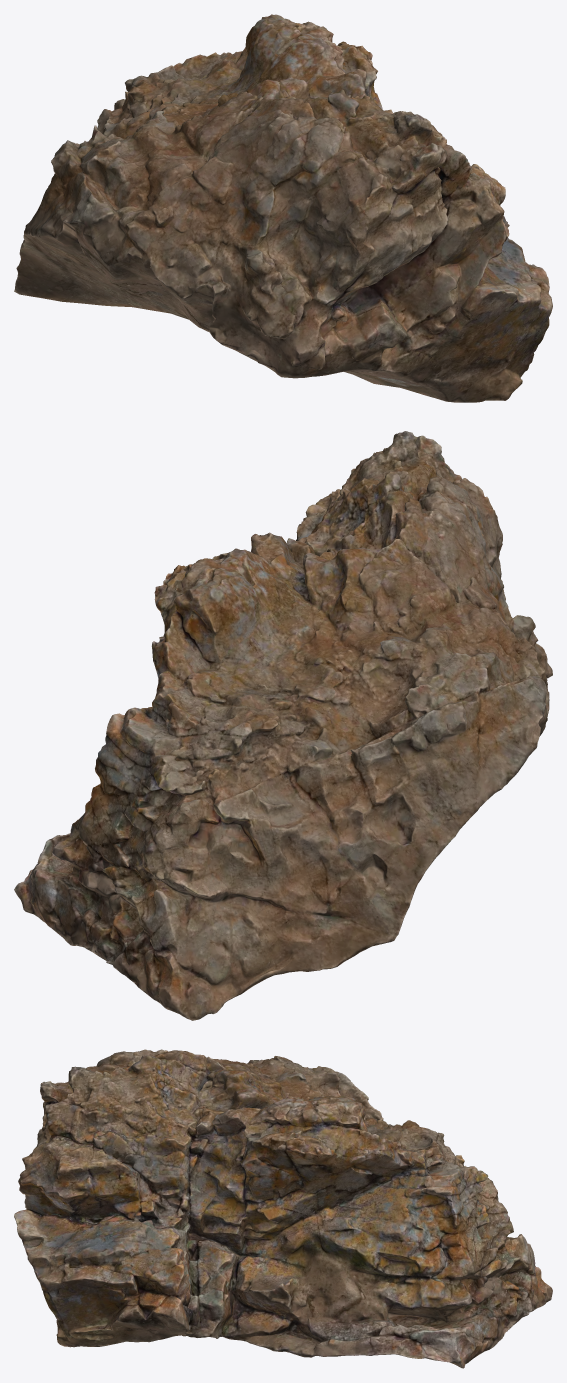
Rendered from boulder_01_1k.glb.
3 renders of one model, top to bottom at view 1: azimuth 30°, elevation 25°; view 2: azimuth 150°, elevation 25°; view 3: azimuth 270°, elevation 25°, orthographic. The views are drawn at different scales.
Visible parts, largest first — view 1: boulder_01; view 2: boulder_01; view 3: boulder_01.
Boxes of the visible parts, left/top/right/bottom form: boulder_01: left=14, top=14, right=552, bottom=402; boulder_01: left=14, top=431, right=552, bottom=1020; boulder_01: left=14, top=1049, right=552, bottom=1368.
Bounding box in the file's own units: 1.27 × 1 × 1.83.
Materials: 1 (1 with a texture image).
